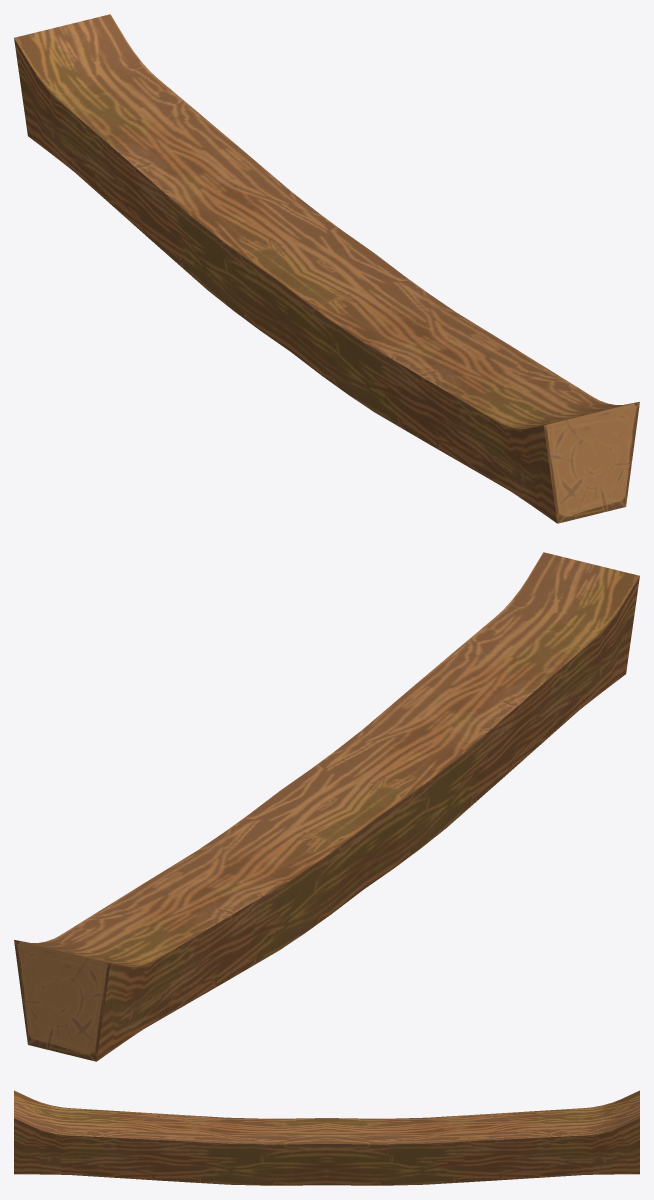
The model's file is Roof_Log.obj.
The picture shows the model from 3 angles, top to bottom: view 1: azimuth 30°, elevation 25°; view 2: azimuth 150°, elevation 25°; view 3: azimuth 270°, elevation 25°; orthographic projection. The views are drawn at different scales.
Parts seen in each view (by area): view 1: Roof_Log; view 2: Roof_Log; view 3: Roof_Log.
Boxes of the visible parts, x1,y1,x2,y2 form: Roof_Log: (14,14,639,523); Roof_Log: (14,552,639,1061); Roof_Log: (14,1090,639,1185).
Size of the model in its own units: 1.15 by 1.39 by 10.7.
